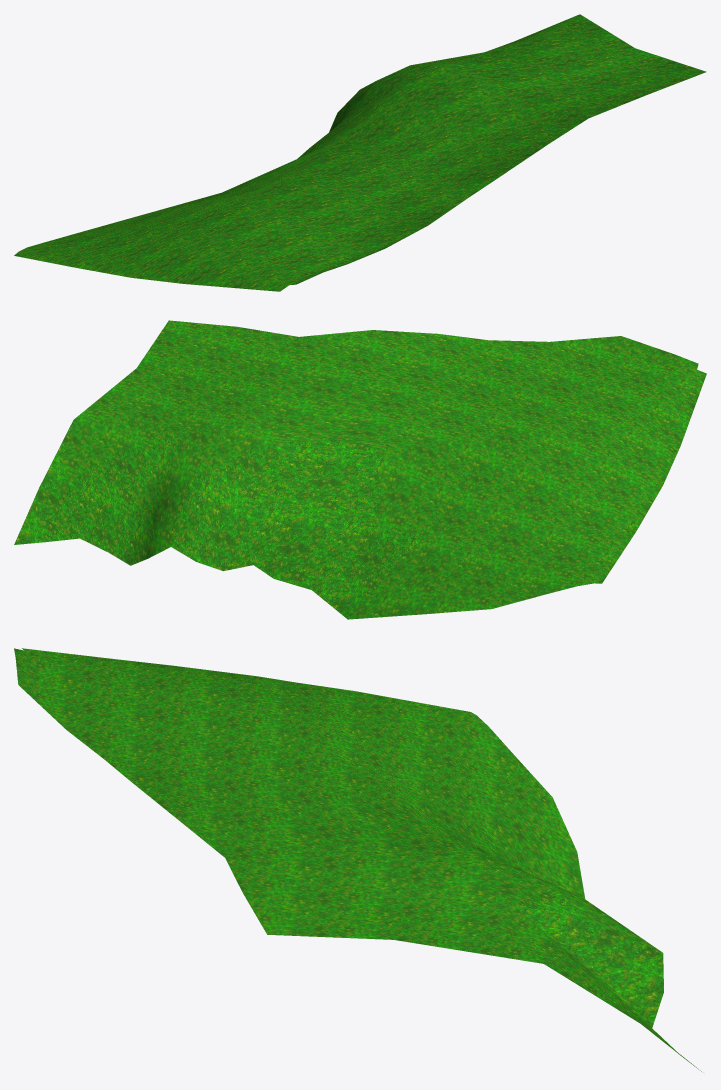
The model's file is HTOWN01_PS24.fbx.
The picture shows the model from 3 angles, top to bottom: view 1: azimuth 30°, elevation 25°; view 2: azimuth 150°, elevation 25°; view 3: azimuth 270°, elevation 25°; orthographic projection. The views are drawn at different scales.
Parts seen in each view (by area): view 1: HTOWN01_PS24; view 2: HTOWN01_PS24; view 3: HTOWN01_PS24.
Boxes of the visible parts, x1=… form: HTOWN01_PS24: x1=14, y1=14, x2=706, y2=291; HTOWN01_PS24: x1=14, y1=320, x2=706, y2=619; HTOWN01_PS24: x1=14, y1=648, x2=701, y2=1071.
Bounding box in the file's own units: 230094 × 63445 × 198665.
2 materials, 2 textured.
